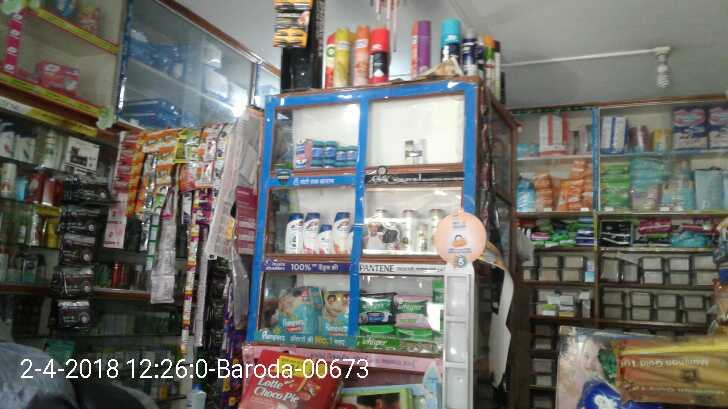vicks: (294, 156, 311, 174), (293, 138, 309, 156), (312, 140, 325, 157), (328, 142, 338, 158), (348, 146, 358, 160)
